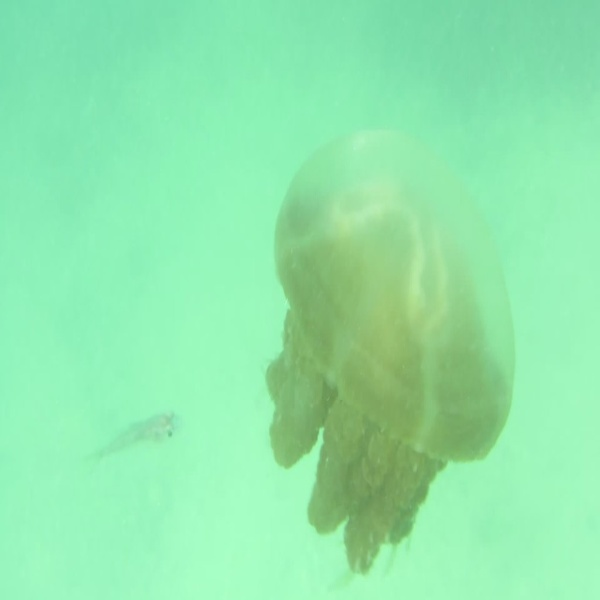Jellyfish: (260, 121, 517, 525)
